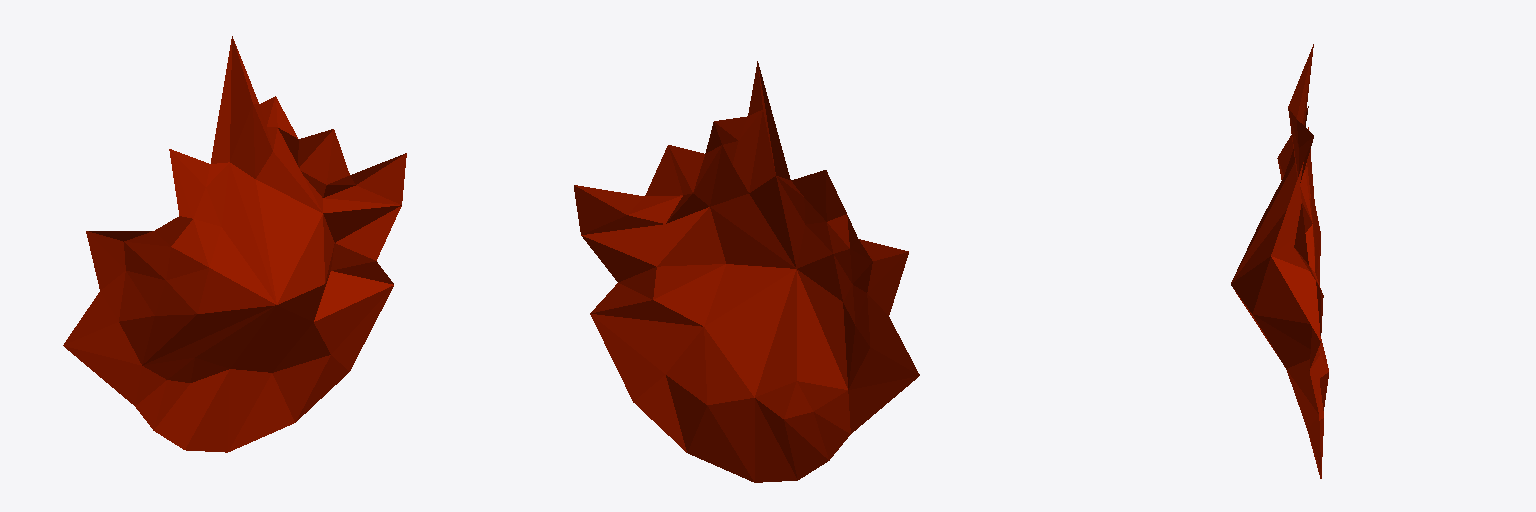
Rendered from flame.obj.
3 renders of one model, left to right at view 1: azimuth 30°, elevation 25°; view 2: azimuth 150°, elevation 25°; view 3: azimuth 270°, elevation 25°, orthographic.
Parts seen in each view (by area): view 1: Plane_Plane.001; view 2: Plane_Plane.001; view 3: Plane_Plane.001.
Boxes of the visible parts, box(x1,y1,x2,y2) form: Plane_Plane.001: box(63, 36, 406, 452); Plane_Plane.001: box(574, 61, 919, 482); Plane_Plane.001: box(1231, 44, 1328, 478).
Bounding box in the file's own units: 0.7307 × 0.8487 × 0.1814.